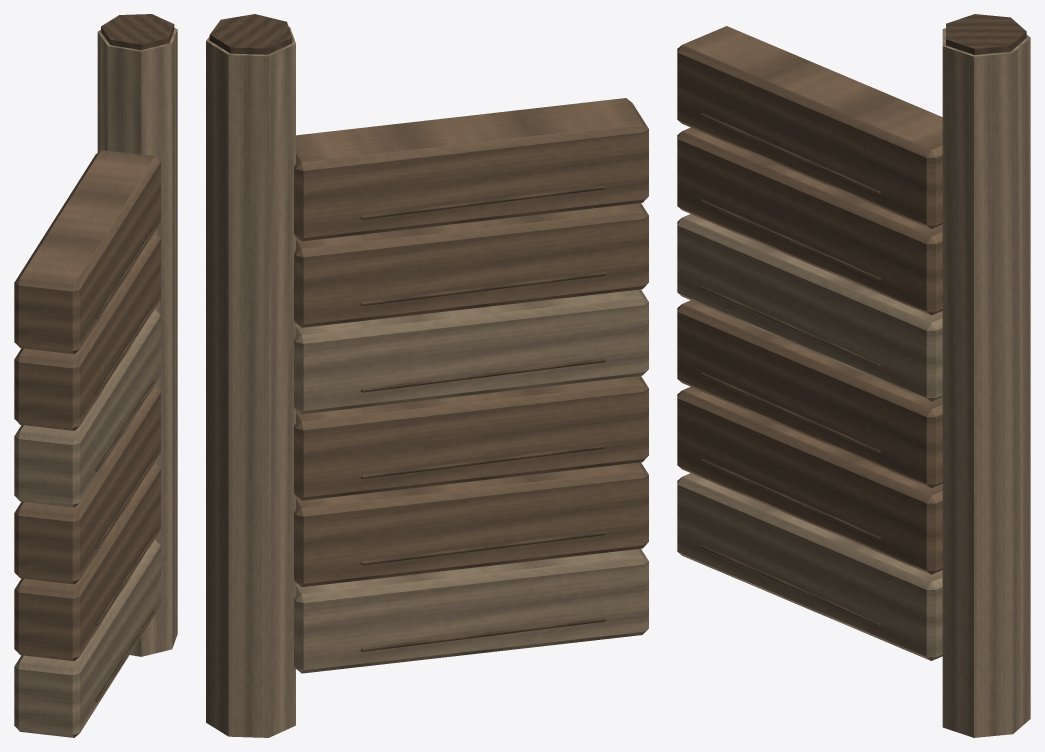
Rendered from wall_mask_128.glb.
3 views of the same model, side by side, from view 1: azimuth 30°, elevation 25°; view 2: azimuth 150°, elevation 25°; view 3: azimuth 270°, elevation 25° (orthographic). The views are drawn at different scales.
Visible parts, largest first — view 1: wall_mask_128__Weathered_timber, wall_mask_128__Timber_worn_edges, wall_mask_128__Dark_endgrain; view 2: wall_mask_128__Weathered_timber, wall_mask_128__Timber_worn_edges, wall_mask_128__Dark_endgrain; view 3: wall_mask_128__Timber_worn_edges, wall_mask_128__Weathered_timber, wall_mask_128__Dark_endgrain.
Boxes of the visible parts, box(x1,y1,x2,y2) form: wall_mask_128__Weathered_timber: box(14, 150, 160, 660); wall_mask_128__Timber_worn_edges: box(14, 28, 177, 737); wall_mask_128__Dark_endgrain: box(95, 14, 174, 701); wall_mask_128__Weathered_timber: box(294, 98, 648, 586); wall_mask_128__Timber_worn_edges: box(206, 27, 648, 737); wall_mask_128__Dark_endgrain: box(209, 14, 606, 651); wall_mask_128__Timber_worn_edges: box(677, 28, 1030, 737); wall_mask_128__Weathered_timber: box(677, 26, 942, 574); wall_mask_128__Dark_endgrain: box(701, 14, 1026, 626).
Bounding box in the file's own units: 0.6463 × 1.39 × 0.6484.
Materials: 3 (3 with a texture image).
